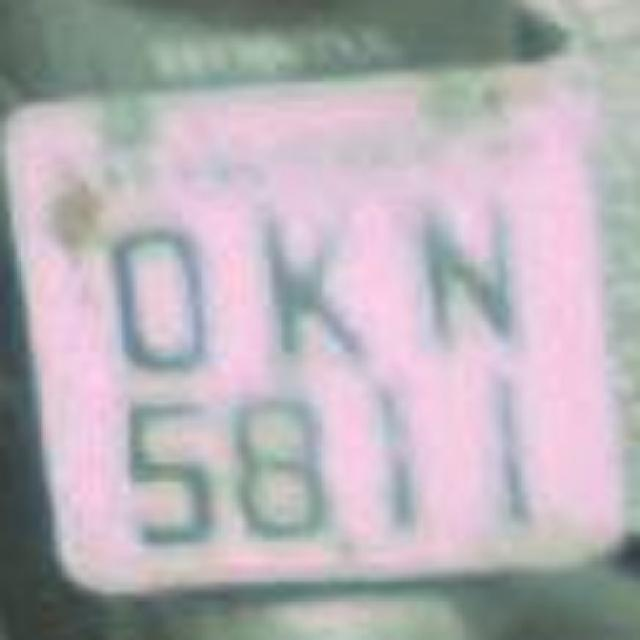1: (460, 360, 548, 548), (344, 368, 428, 540)
5: (91, 376, 224, 549)
8: (209, 372, 336, 552)
N: (400, 184, 532, 368)
O: (104, 192, 228, 376)
